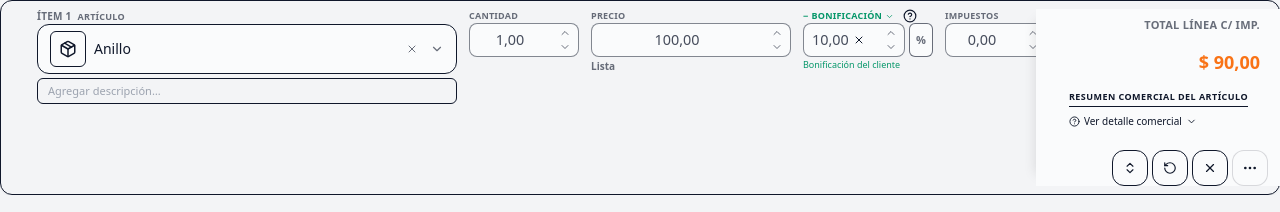
Test case: Dropdown Bonificación / Recargo sobre herencia › OPTIMISTIC: BONUS heredado → click 'Recargo' actualiza header AL INSTANTE (sin esperar preview)
This screenshot has width=1280, height=212.
// Click → abrir menú → elegir Recargo.
Click the button "− Bonificación" at (849, 16), box [803,9,894,23]
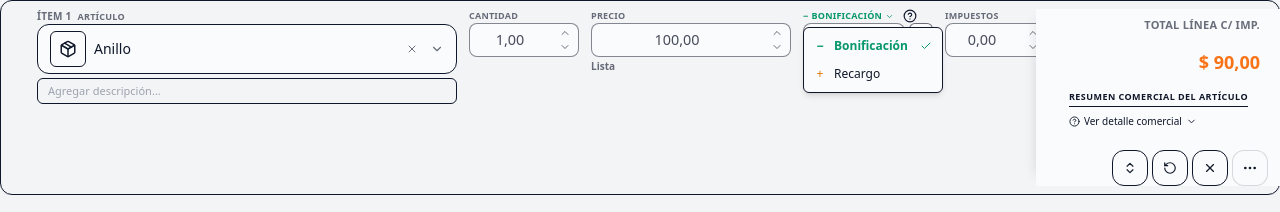
Click the menu item "+ Recargo" at (873, 74), box [804,60,942,88]
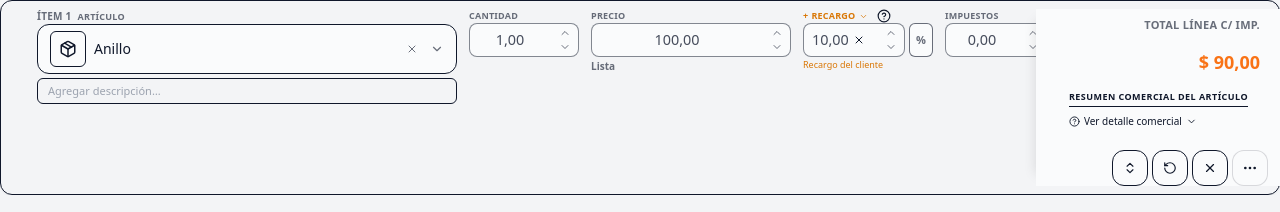
Check: the button "+ Recargo" is shown, box [803,9,868,23]
